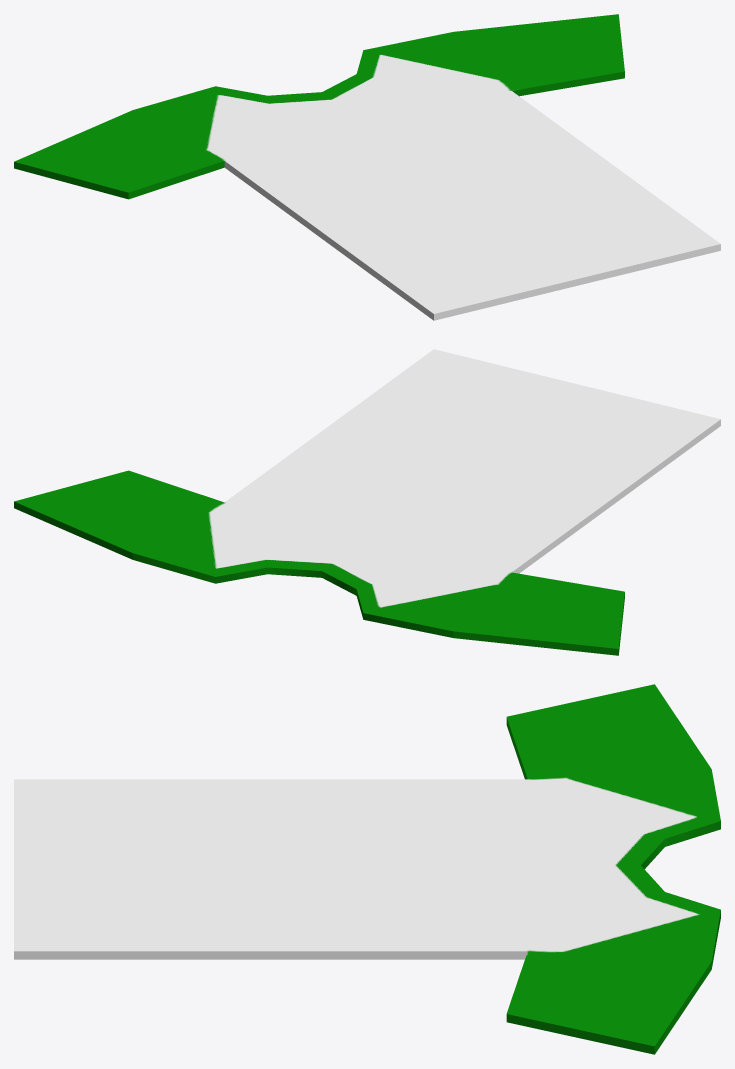
Rendered from Green Shirt.fbx.
The picture shows the model from 3 angles, top to bottom: view 1: azimuth 30°, elevation 25°; view 2: azimuth 150°, elevation 25°; view 3: azimuth 270°, elevation 25°; orthographic projection. The views are drawn at different scales.
Visible parts, largest first — view 1: Green_Shirt1; view 2: Green_Shirt1; view 3: Green_Shirt1.
Boxes of the visible parts, bbox=[...] form: Green_Shirt1: bbox=[14, 14, 720, 320]; Green_Shirt1: bbox=[14, 349, 720, 655]; Green_Shirt1: bbox=[14, 684, 720, 1054].
Size of the model in its own units: 3.66 by 0.039 by 3.02.
